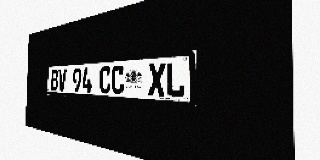4: (82, 67, 92, 93)
9: (72, 68, 82, 92)
B: (51, 69, 58, 91)
C: (111, 65, 124, 94), (99, 66, 111, 94)
L: (166, 61, 186, 98)
V: (58, 69, 66, 91)
X: (148, 63, 166, 97)
